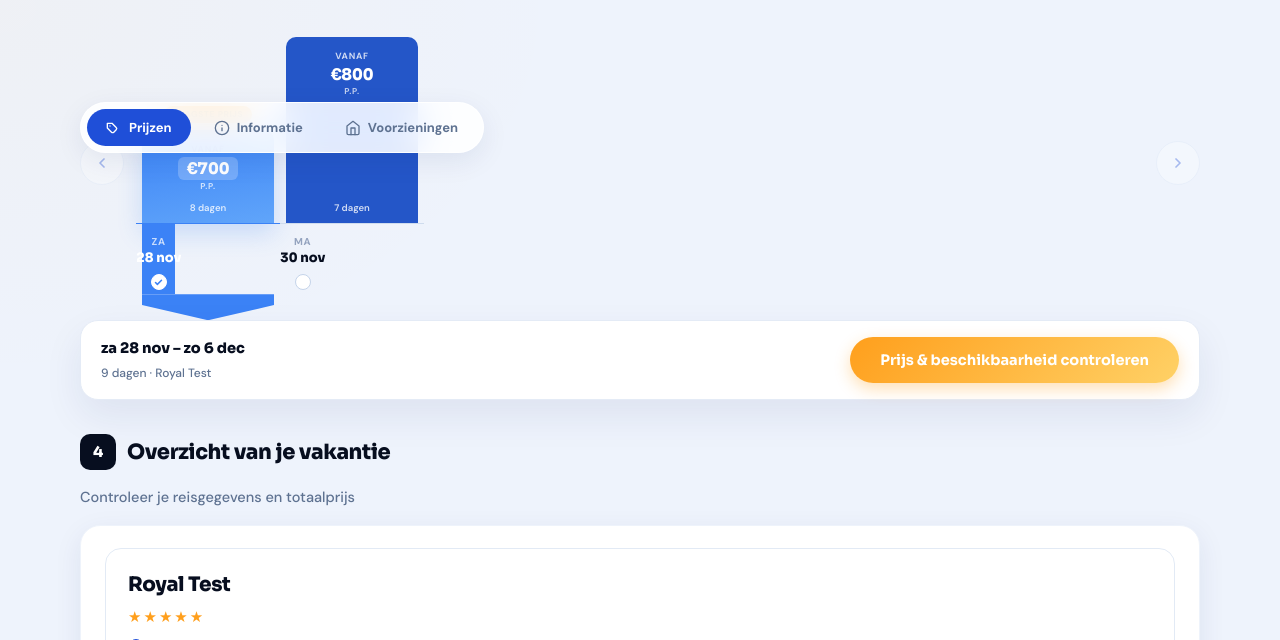
Test case: the live check asks about the package the card priced › a confirm that failed is never "sold out"
The image size is (1280, 640).
(page scrolled)
Expected: the button "Laagste prijs vanaf €700 p.p. 8 dagen za 28 nov" is shown, 136,12 -> 280,320
What coordinates should you click on to do the following:
click the button "Prijs & beschikbaarheid controleren"
I would click on:
 (1015, 360)
Its box is 850,337 -> 1179,383.
(page scrolled)
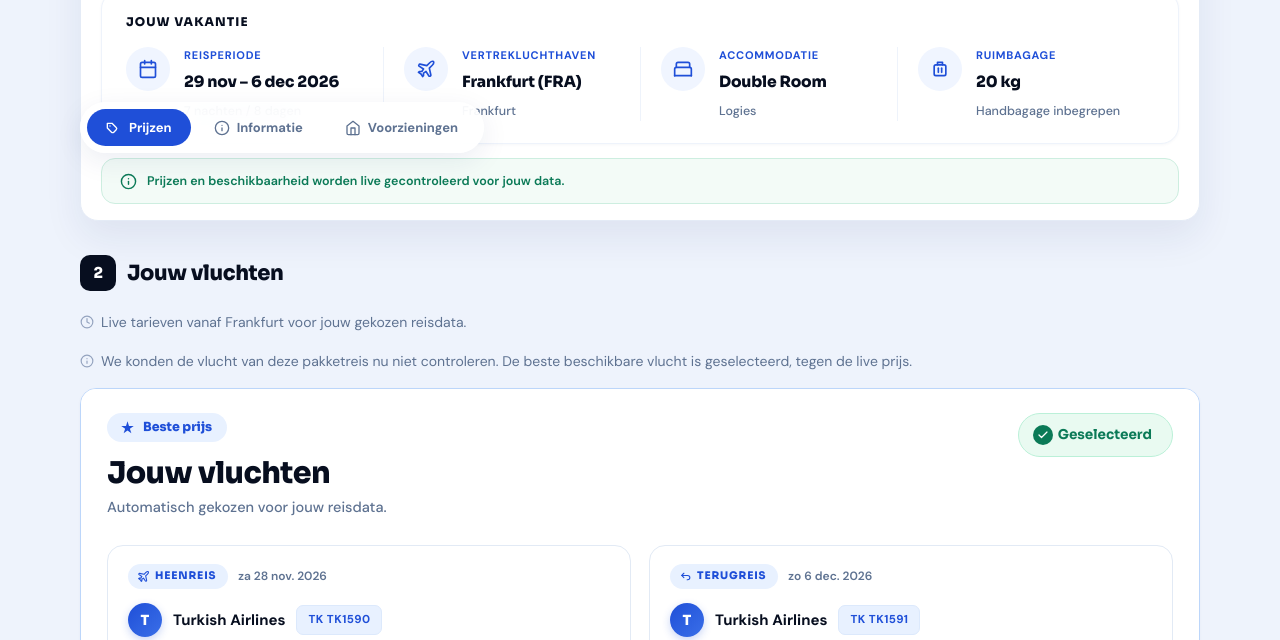
Now the text "konden de vlucht van deze pakketreis nu niet controleren" is shown, box 101,352 -> 912,370
